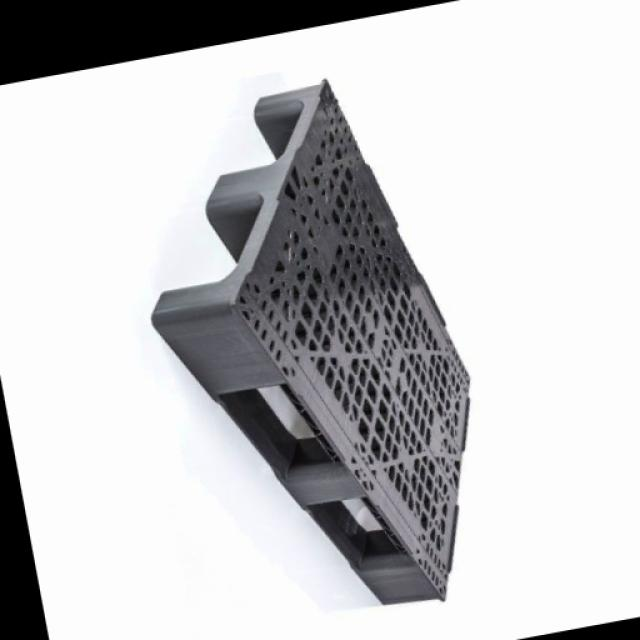non-igps: (141, 70, 483, 611)
